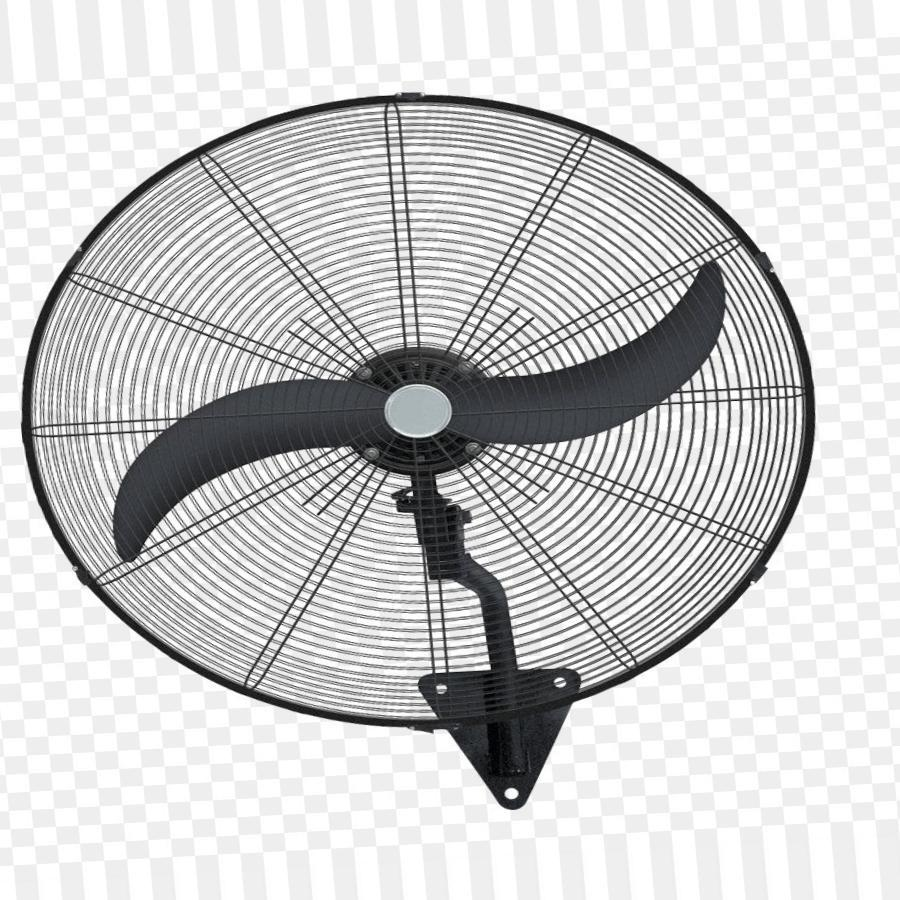fan: (27, 91, 815, 813)
